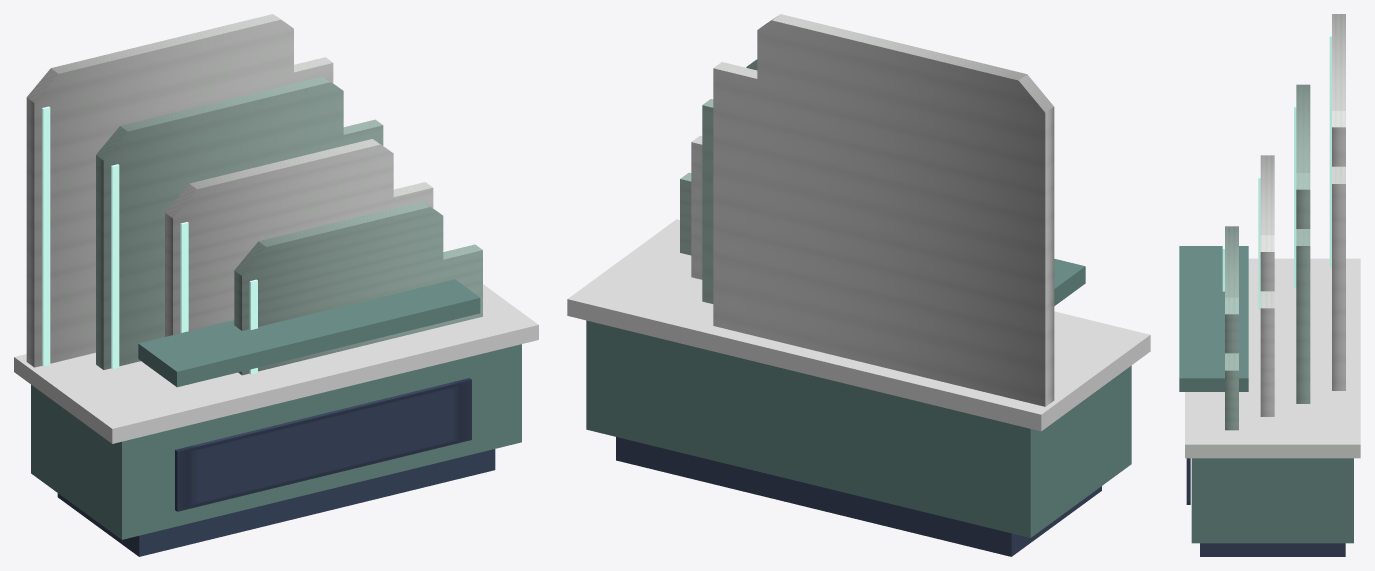
The picture shows the model from 3 angles, left to right: view 1: azimuth 30°, elevation 25°; view 2: azimuth 150°, elevation 25°; view 3: azimuth 270°, elevation 25°; orthographic projection. The views are drawn at different scales.
Visible parts, largest first — view 1: Recessed island base, Tall rear index, Second index, Third index, Front index and shelf, Level sample shelf; view 2: Tall rear index, Recessed island base, Second index, Third index, Level sample shelf, Front index and shelf; view 3: Recessed island base, Level sample shelf, Tall rear index, Second index, Third index, Front index and shelf.
Boxes of the visible parts, box(x1,y1,x2,y2) form: Recessed island base: box(14, 284, 538, 556); Tall rear index: box(26, 14, 333, 367); Second index: box(96, 76, 383, 369); Third index: box(165, 139, 433, 336); Front index and shelf: box(234, 201, 482, 375); Level sample shelf: box(138, 279, 480, 387); Tall rear index: box(713, 14, 1054, 406); Recessed island base: box(567, 219, 1150, 556); Second index: box(702, 59, 757, 303); Third index: box(691, 135, 702, 279); Level sample shelf: box(1054, 258, 1085, 305); Front index and shelf: box(680, 172, 691, 255); Recessed island base: box(1185, 258, 1360, 556); Level sample shelf: box(1179, 246, 1248, 391); Tall rear index: box(1329, 14, 1345, 390); Second index: box(1294, 84, 1310, 403); Third index: box(1258, 155, 1274, 416); Front index and shelf: box(1222, 226, 1238, 430).
Bounding box in the file's own units: 2.55 × 2.46 × 1.05.
1 material, 1 textured.
